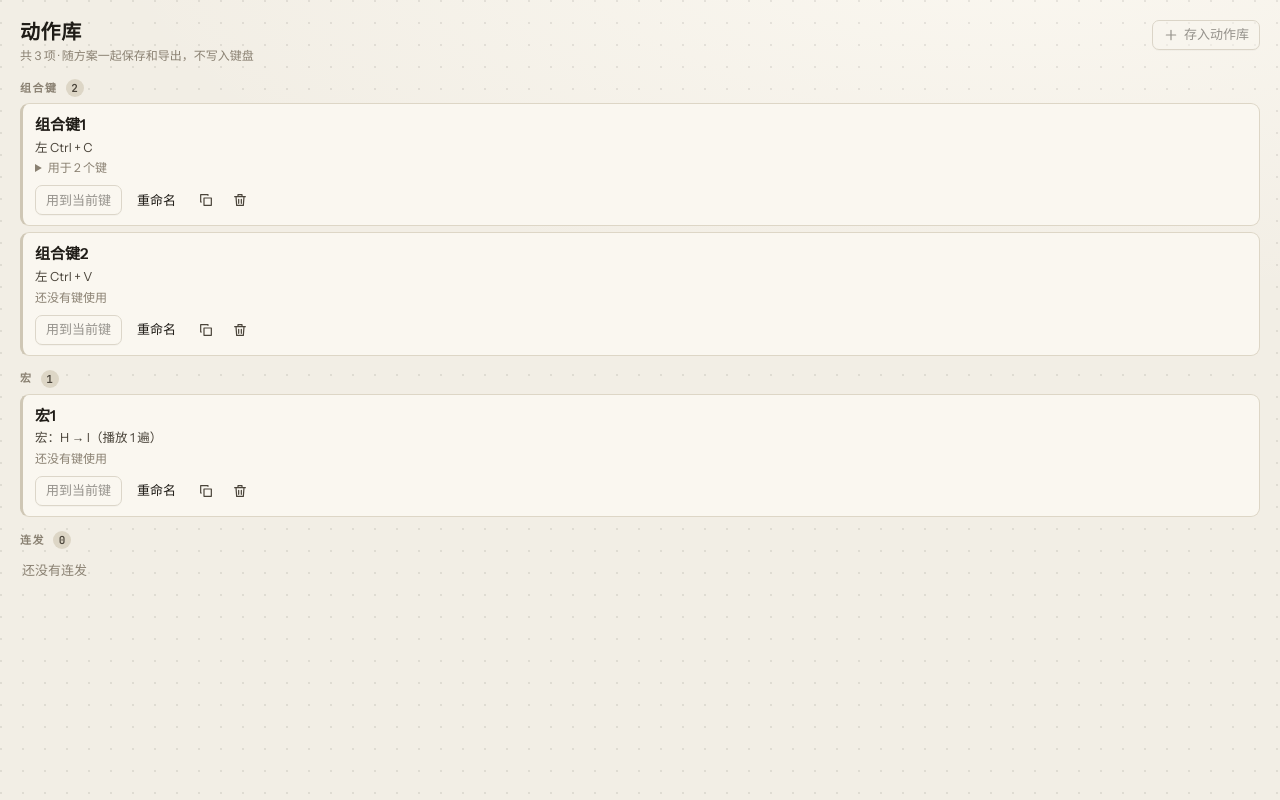
Test: LibraryPanel › renames inline with validation, Enter to commit and Escape to cancel
The image size is (1280, 800).
Click the button with aria-label "重命名“组合键1”" at [156, 200], box left=126, top=185, right=187, bottom=215
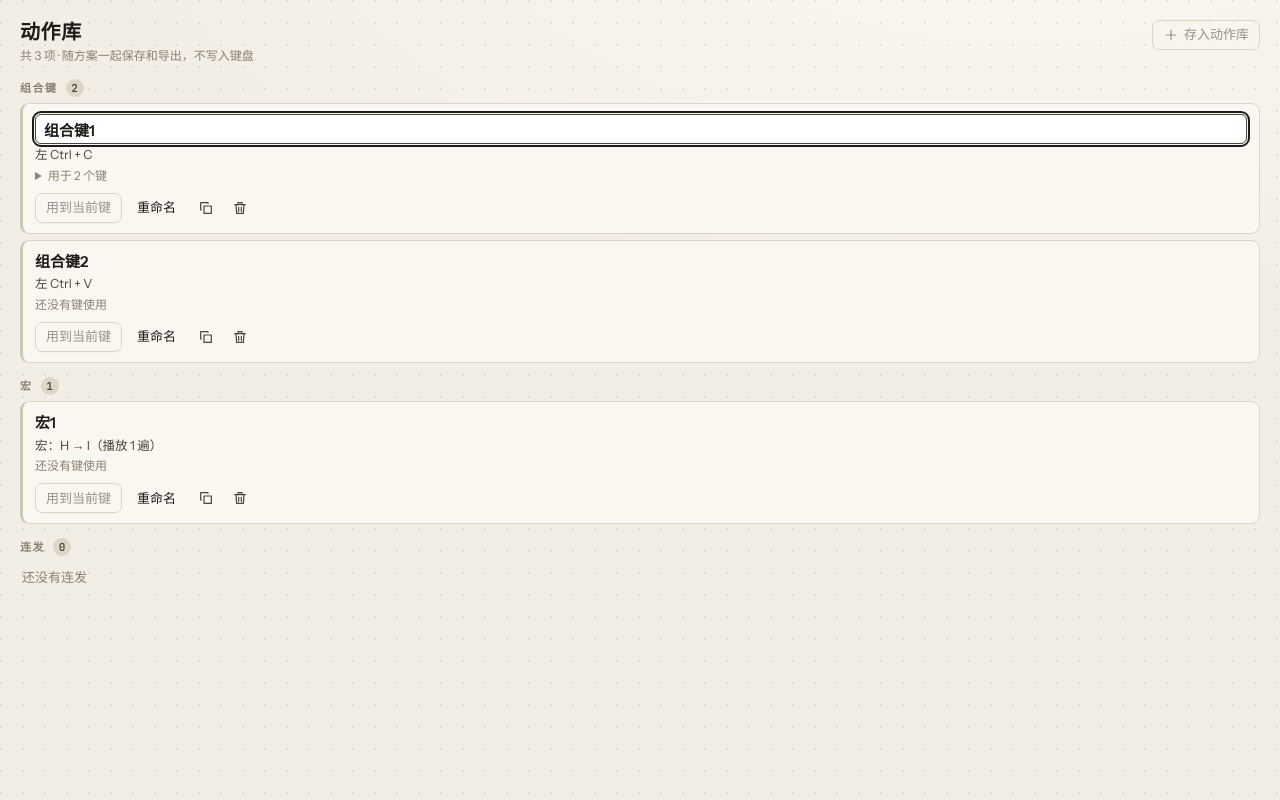
Replace the text in the field named "“组合键1”的新名称" with "组合键2" at [641, 129], box left=35, top=114, right=1247, bottom=144
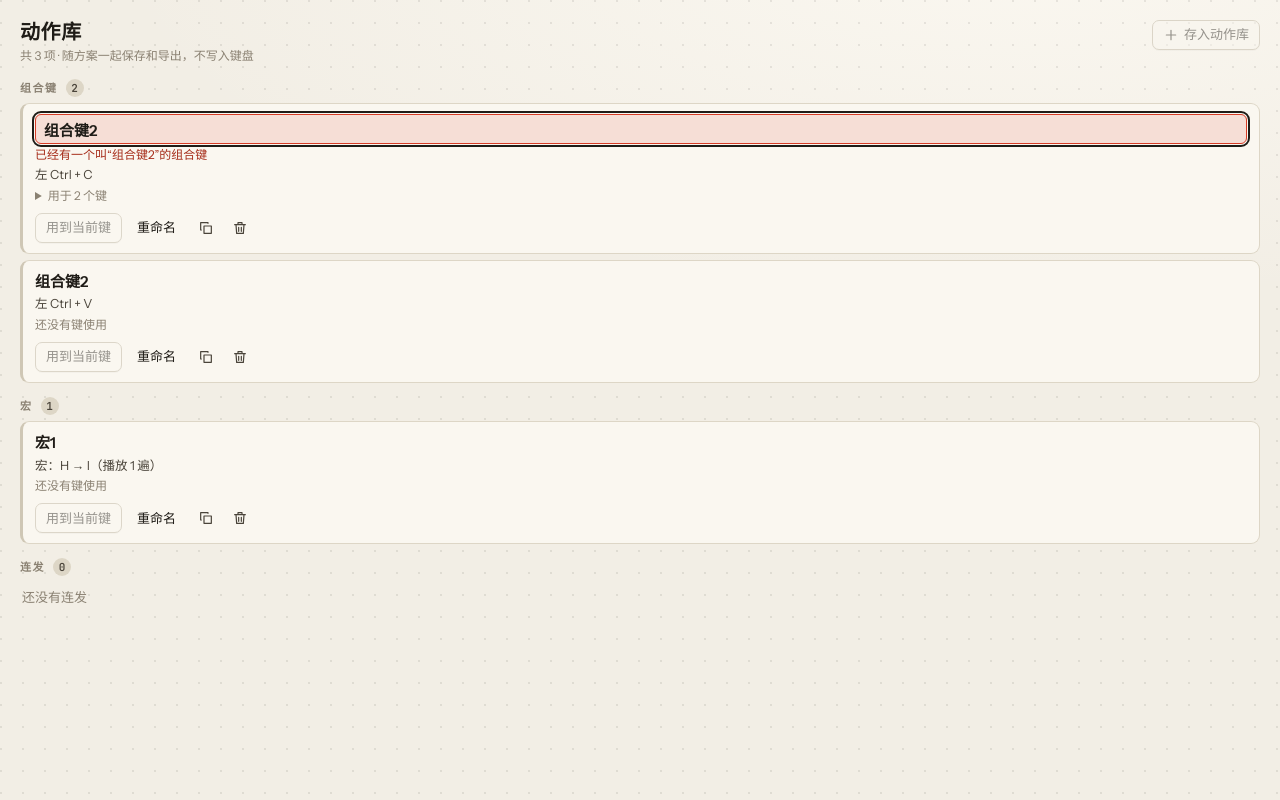
Check: the message shows "已经有一个叫“组合键2”", box left=35, top=147, right=207, bottom=162
Press Enter in the field named "“组合键1”的新名称", box left=35, top=114, right=1247, bottom=144
Press Escape in the field named "“组合键1”的新名称", box left=35, top=114, right=1247, bottom=144
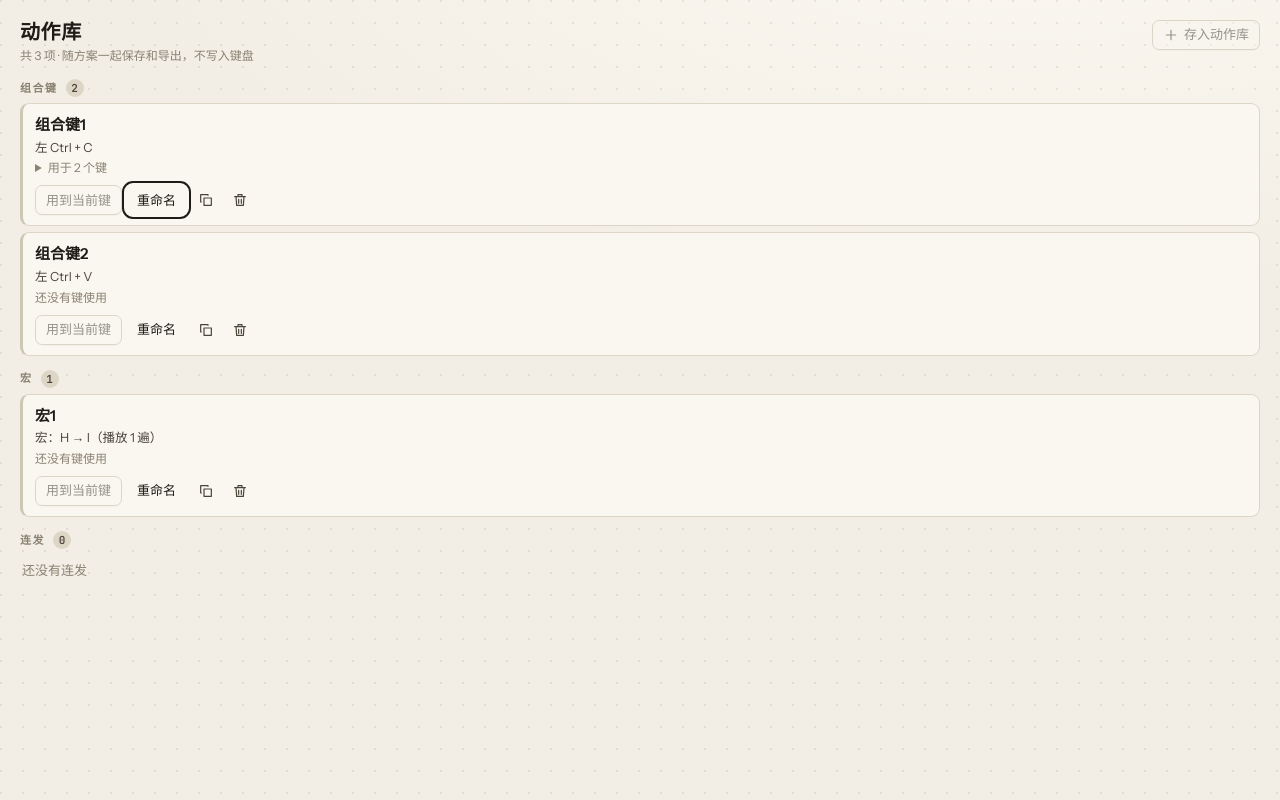
Check: the field is gone
Click the button with aria-label "重命名“组合键1”" at [156, 200], box left=126, top=185, right=187, bottom=215
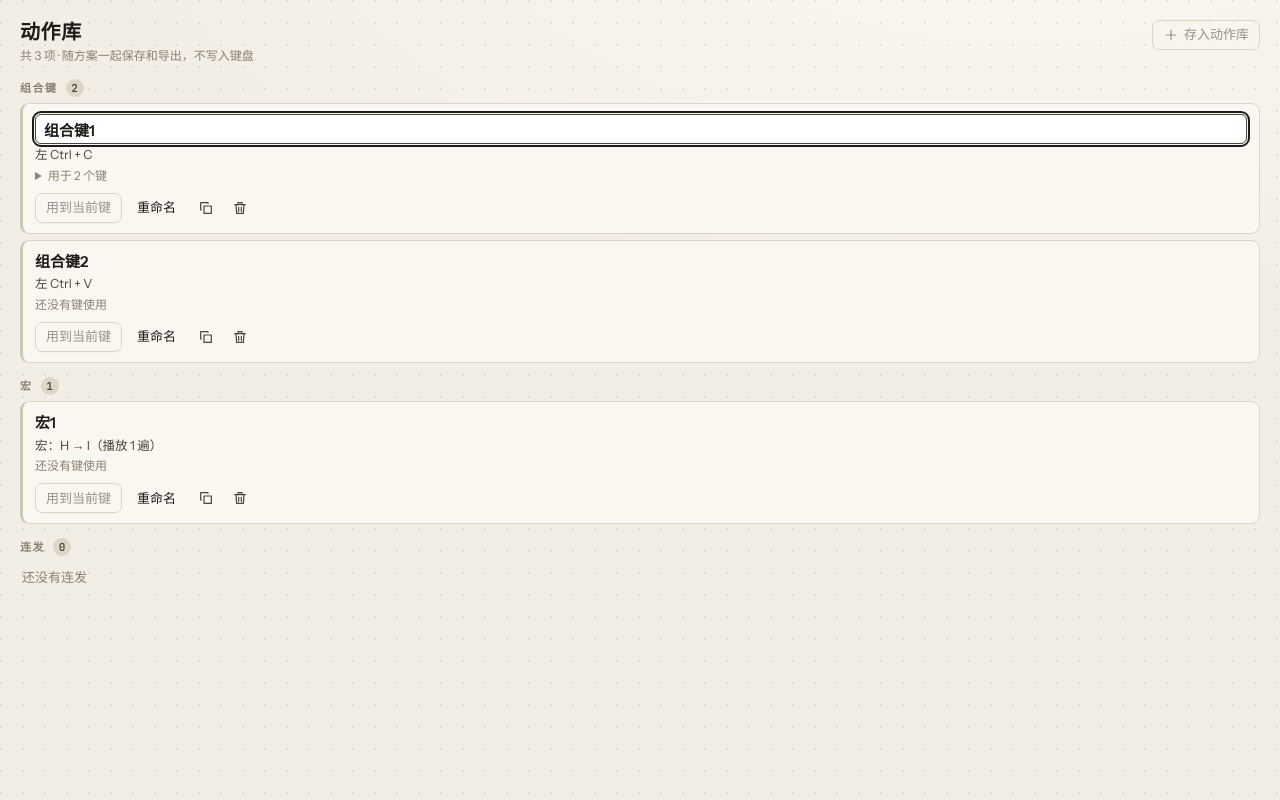
Replace the text in the field with "复制" at [641, 129], box left=35, top=114, right=1247, bottom=144
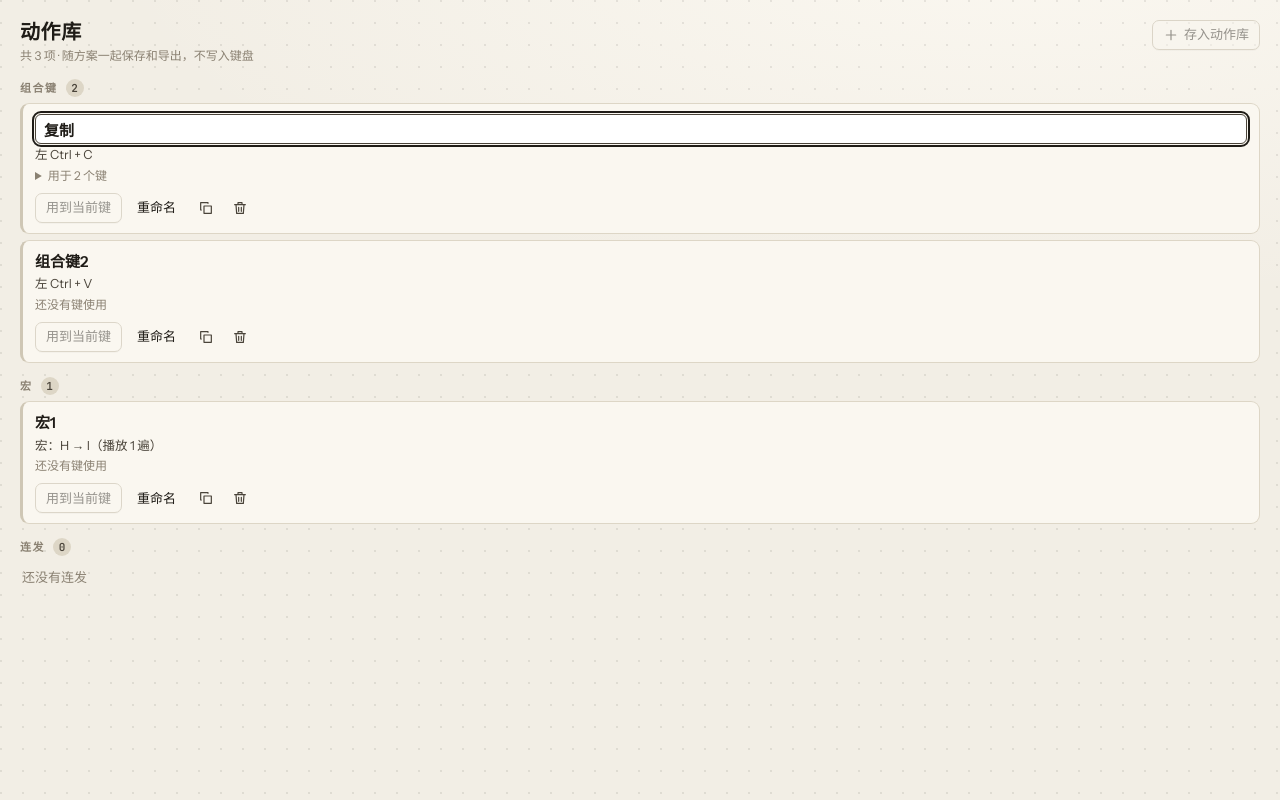
Press Enter in the field, box left=35, top=114, right=1247, bottom=144
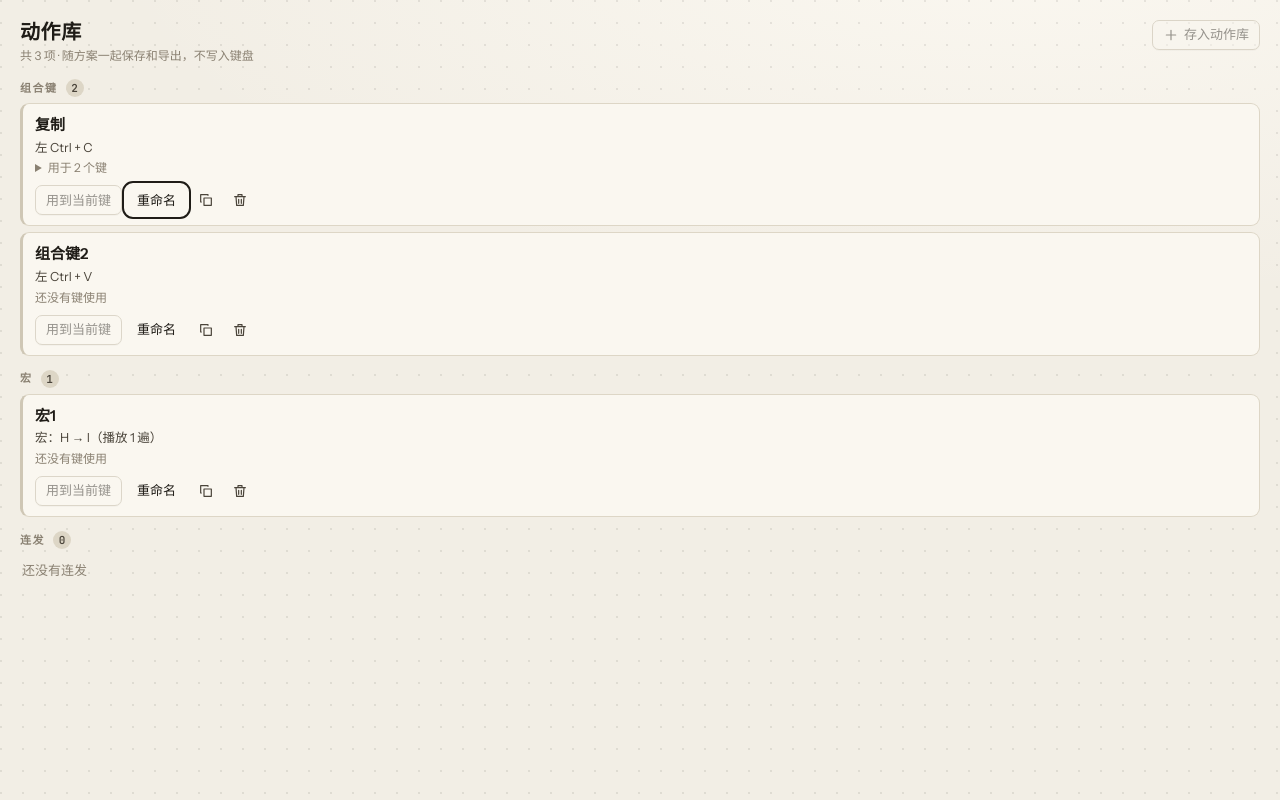
Check: the text "复制" is shown, box left=35, top=114, right=65, bottom=136
